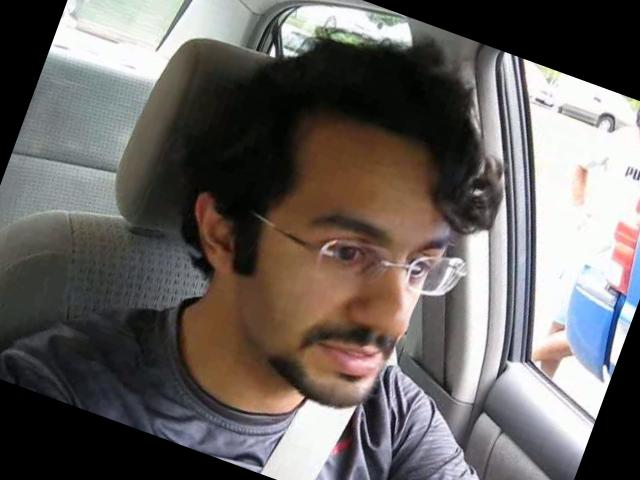eye_open: (316, 232, 370, 276), (401, 250, 436, 288)
face: (215, 165, 450, 424)
